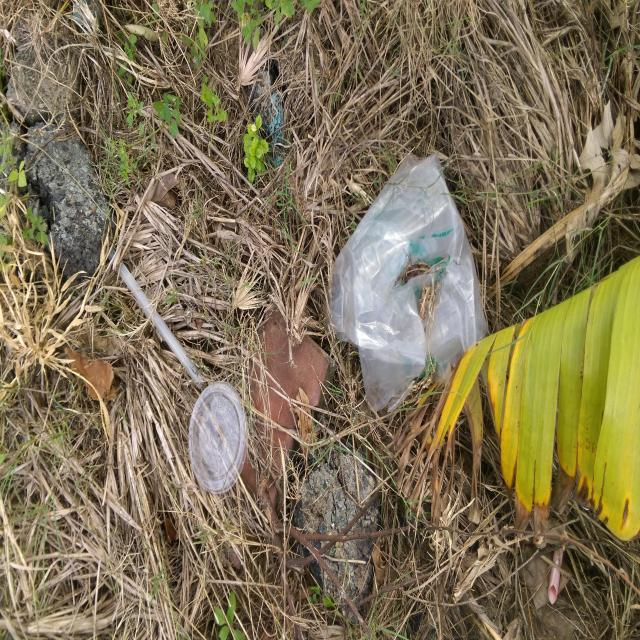litter: (108, 247, 204, 389), (189, 381, 248, 493)
